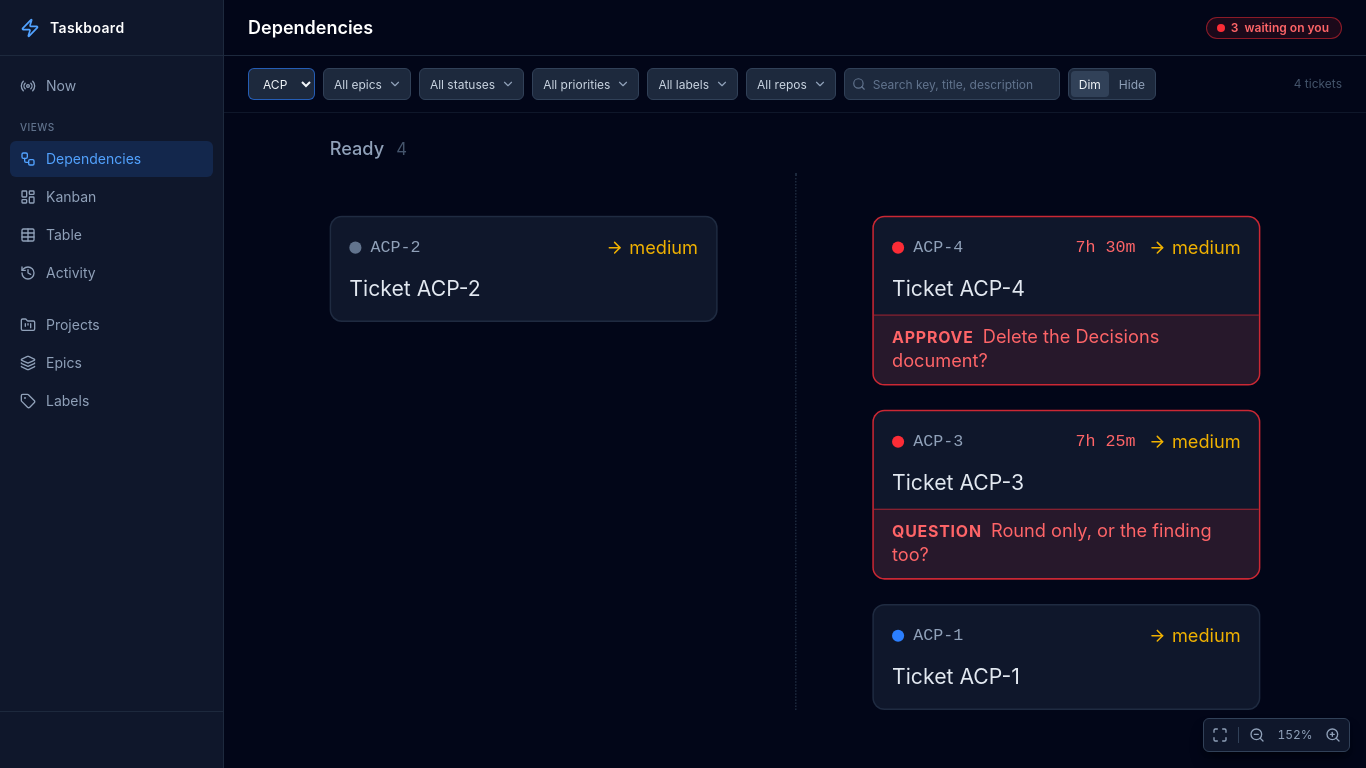
Scenario: the header's waiting count › opens Now on its waiting group, across every project
Step 1. Click the link with test id "waiting-chip" → {"x": 1274, "y": 28}, box [1206,16,1342,38]
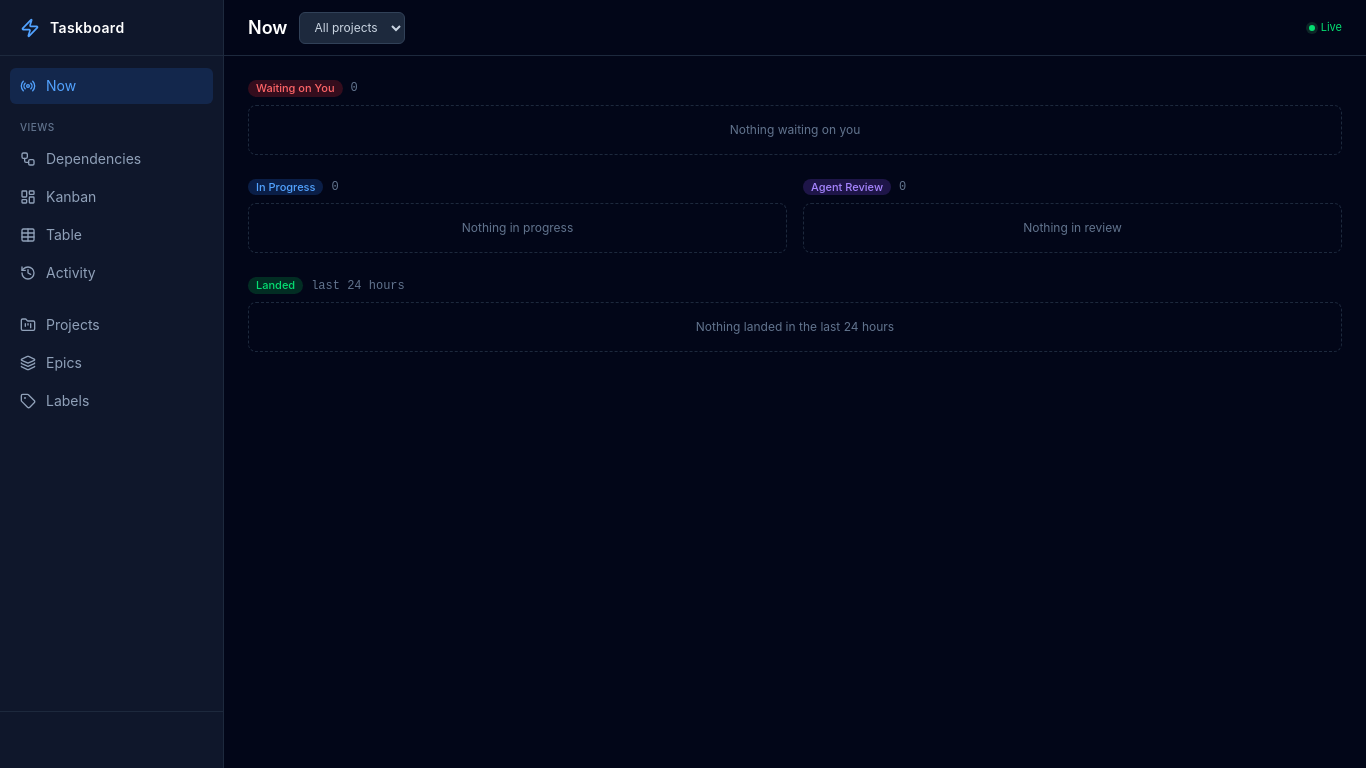
Result: the heading "Now" is shown at [248,14,288,42]
